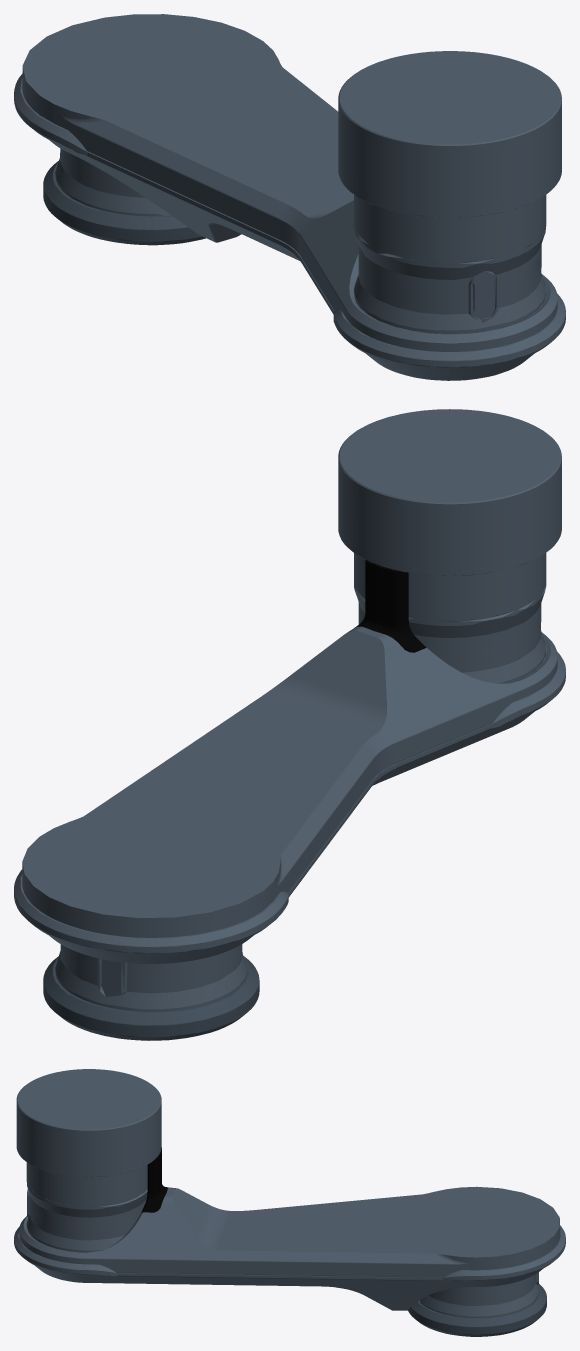
File: hr_hipy.obj
3 views of the same model, one above another, from view 1: azimuth 30°, elevation 25°; view 2: azimuth 150°, elevation 25°; view 3: azimuth 270°, elevation 25° (orthographic). The views are drawn at different scales.
Parts seen in each view (by area): view 1: 移动面1, 倒角4, 圆角25, Mesh_mesh-ee82824d-4807-4070-a955-857ecbf0c111, 圆角2, 切除-拉伸49.001; view 2: 移动面1, 倒角4, 圆角25, Mesh_mesh-ee82824d-4807-4070-a955-857ecbf0c111, 切除-拉伸49.001, 圆角2, 凸台-拉伸1; view 3: 移动面1, 倒角4, Mesh_mesh-ee82824d-4807-4070-a955-857ecbf0c111, 圆角25, 切除-拉伸49.001, 圆角2, 凸台-拉伸1.
Boxes of the visible parts, x1,y1,x2,y2 form: 移动面1: (22,14,557,351); 倒角4: (338,51,561,217); 圆角25: (353,195,546,333); Mesh_mesh-ee82824d-4807-4070-a955-857ecbf0c111: (14,74,565,380); 圆角2: (43,161,205,245); 切除-拉伸49.001: (55,148,170,216); 移动面1: (22,626,557,937); 倒角4: (338,409,561,575); 圆角25: (354,553,546,683); Mesh_mesh-ee82824d-4807-4070-a955-857ecbf0c111: (14,651,565,963); 切除-拉伸49.001: (55,944,247,1011); 圆角2: (43,955,259,1040); 凸台-拉伸1: (355,560,426,652); 移动面1: (19,1186,560,1277); 倒角4: (16,1069,161,1177); Mesh_mesh-ee82824d-4807-4070-a955-857ecbf0c111: (14,1225,565,1310); 圆角25: (26,1162,147,1252); 切除-拉伸49.001: (420,1272,539,1317); 圆角2: (408,1284,546,1336); 凸台-拉伸1: (141,1147,167,1212).
Size of the model in its own units: 0.115 by 0.1494 by 0.356.
